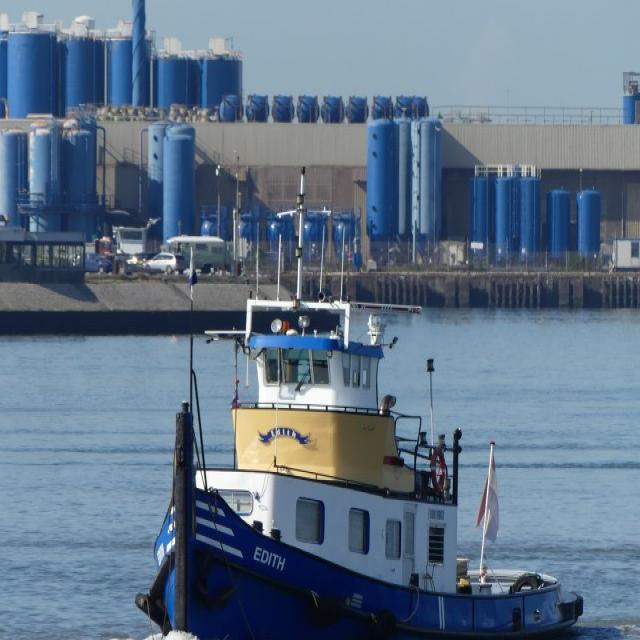tugboat: (131, 269, 589, 640)
